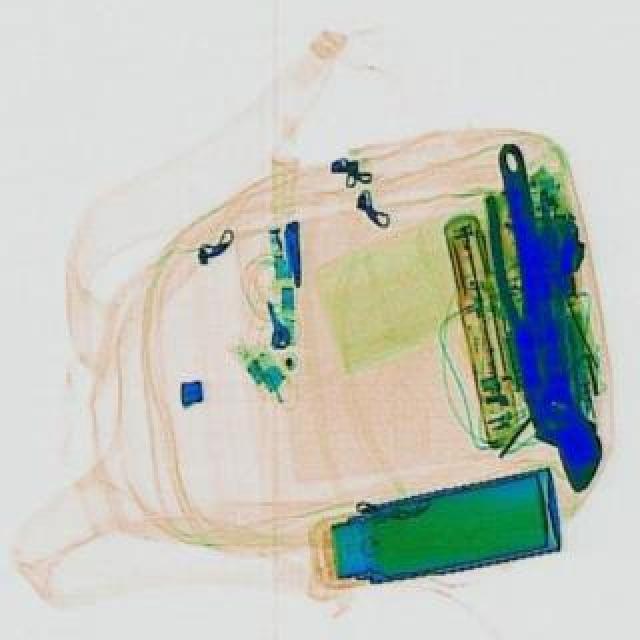scissors: (472, 136, 610, 494)
